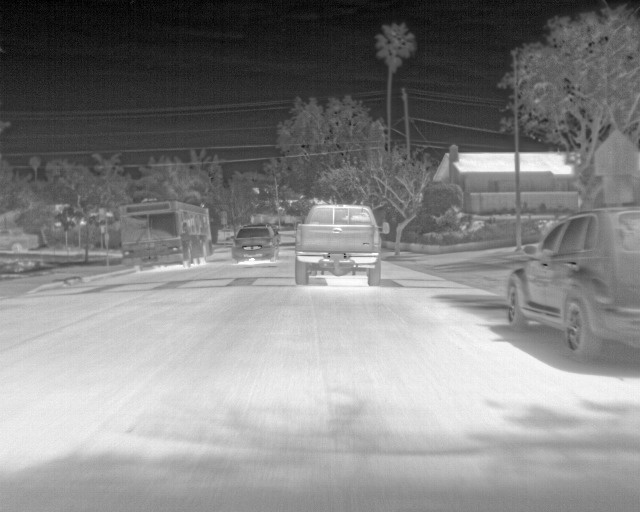vehicle: (506, 209, 640, 352), (294, 203, 383, 285), (119, 202, 213, 270), (234, 222, 283, 265)
